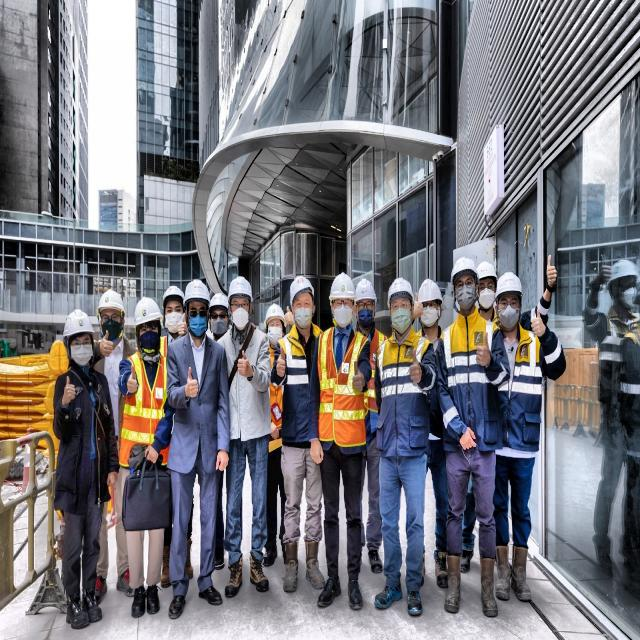safety_helmet: (61, 307, 98, 371), (287, 274, 318, 334), (131, 294, 165, 332), (493, 269, 525, 303), (327, 270, 358, 304), (95, 287, 127, 319), (182, 277, 212, 311), (226, 274, 255, 306)
safety_jacket: (116, 334, 172, 474), (316, 323, 374, 453), (438, 324, 501, 443), (491, 334, 544, 464), (376, 334, 428, 456)
